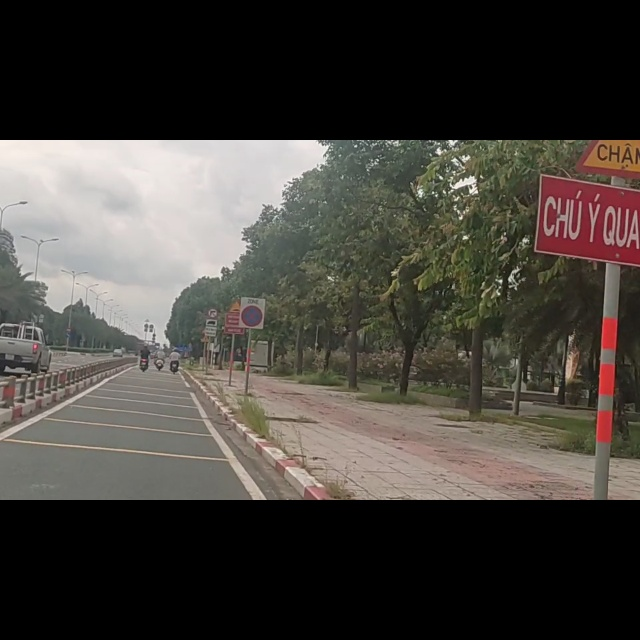bien_nguy_hiem: (238, 275, 265, 339), (204, 316, 217, 352), (206, 299, 219, 318)
